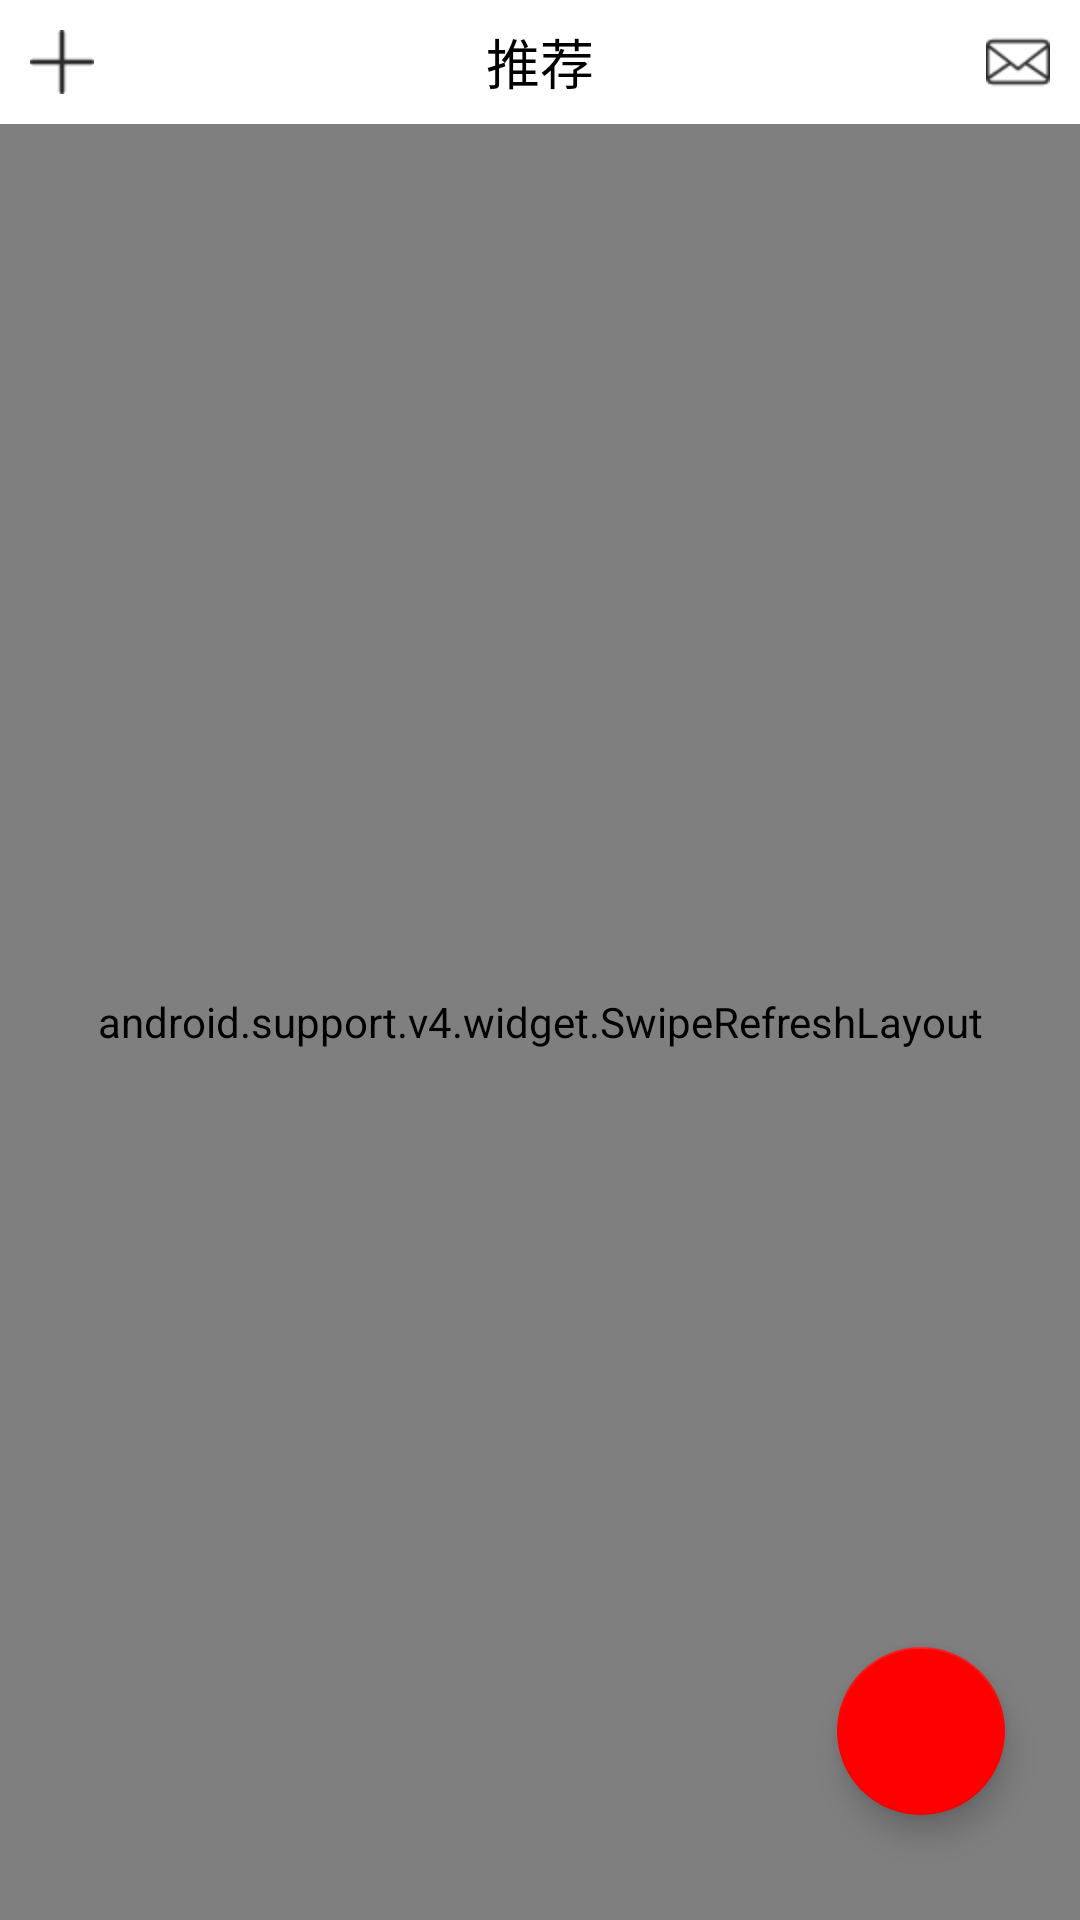

Named icons in this screenshot (1080x1920) and their bounding boxes, (x1=x1, y1=y1, x2=x2, y2=y2):
add menu: (x1=30, y1=30, x2=94, y2=94)
message menu: (x1=986, y1=38, x2=1050, y2=86)
